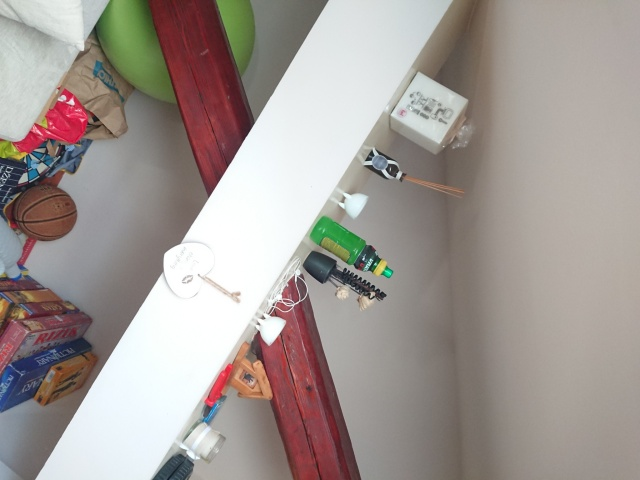Vindi Iso Sport Lemon-Grapefruit 500mL: (306, 214, 395, 280)
